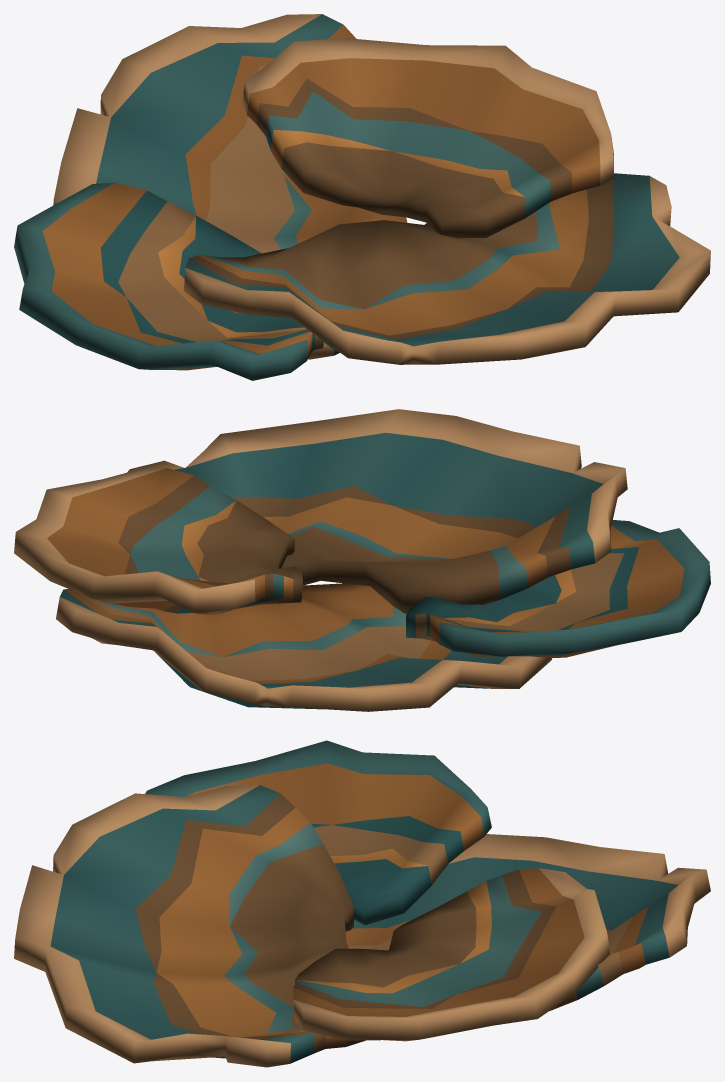
File: SM_TurkeyTail_A.fbx
3 views of the same model, one above another, from view 1: azimuth 30°, elevation 25°; view 2: azimuth 150°, elevation 25°; view 3: azimuth 270°, elevation 25° (orthographic). The views are drawn at different scales.
Parts seen in each view (by area): view 1: SM_TurkeyTail_A; view 2: SM_TurkeyTail_A; view 3: SM_TurkeyTail_A.
Boxes of the visible parts, <box> form: SM_TurkeyTail_A: <box>14,14,710,380</box>; SM_TurkeyTail_A: <box>14,409,710,711</box>; SM_TurkeyTail_A: <box>14,740,710,1067</box>.
Bounding box in the file's own units: 39 × 9.53 × 39.66.
